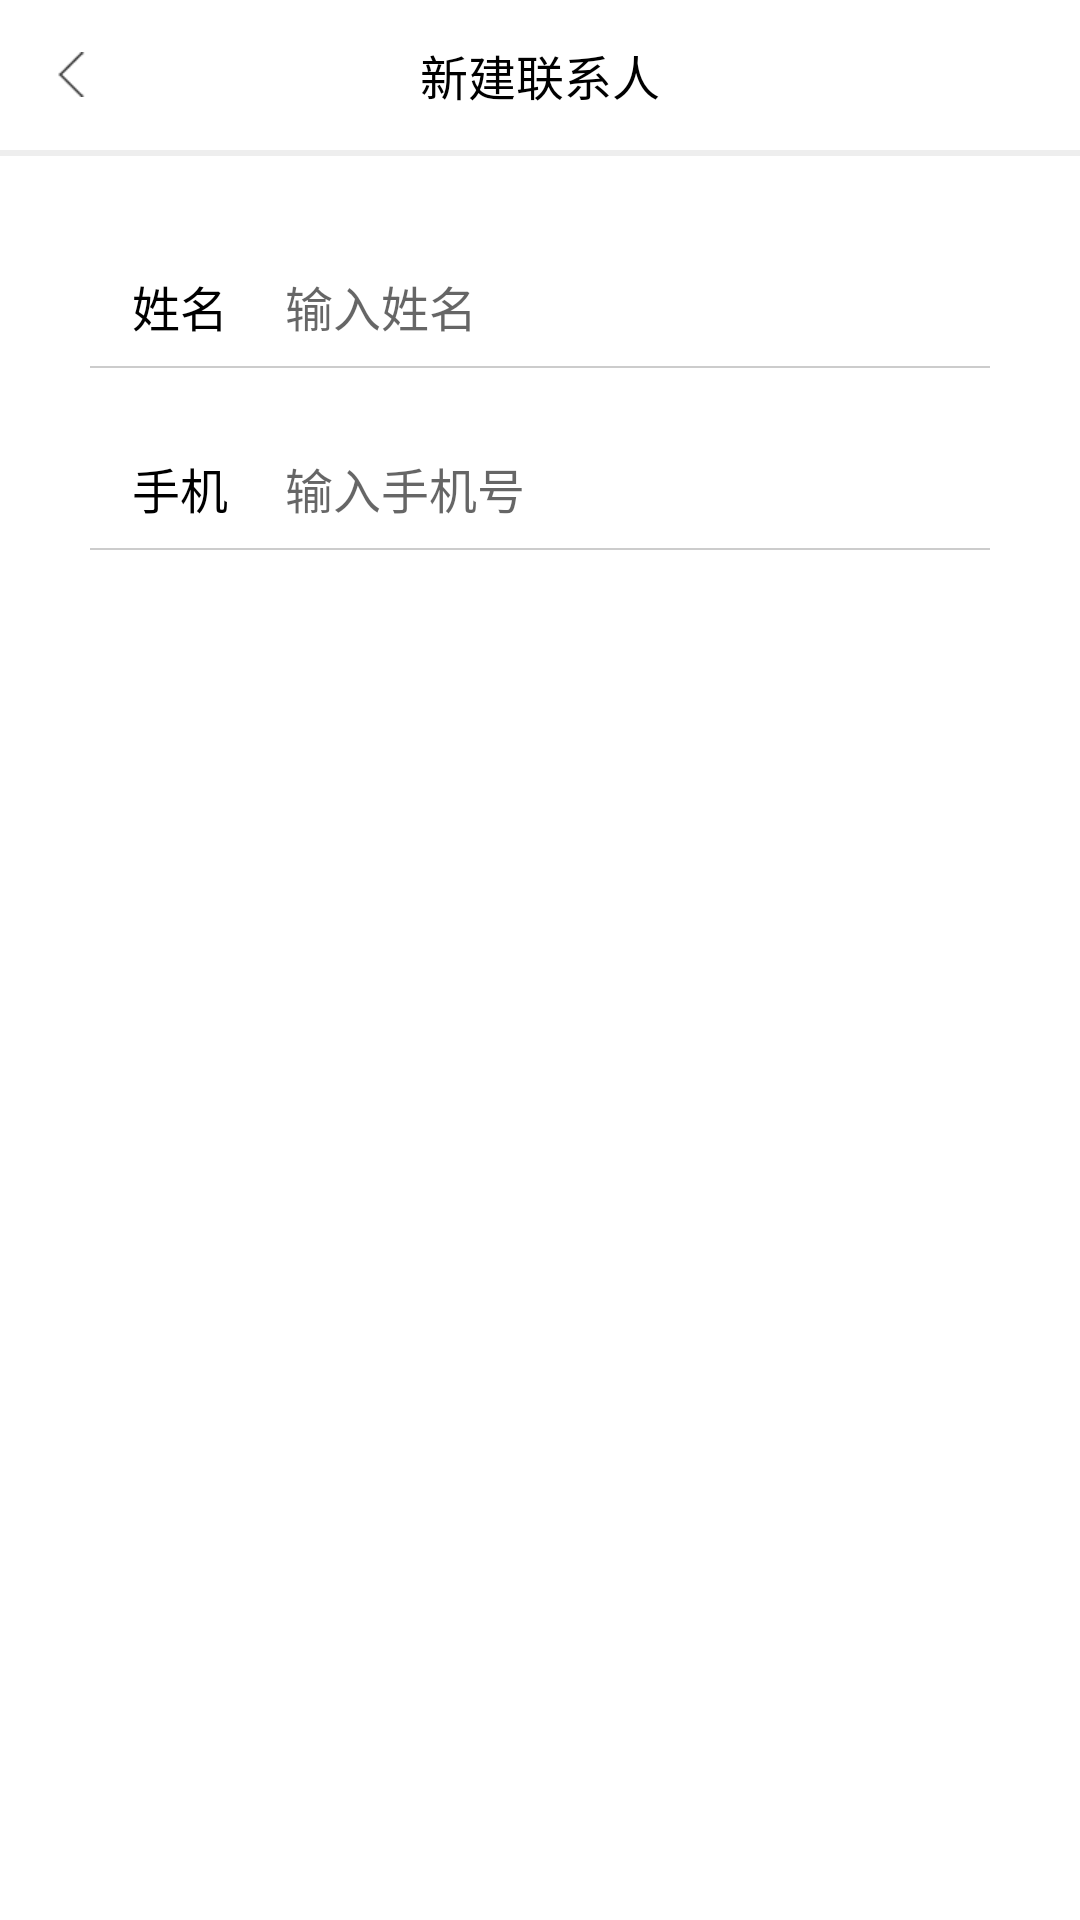

Icon bounding boxes for this 1080px×1920px phone screenshot, format [left=x1, top=y1, right=x2, bottom=y2]:
back: [left=58, top=52, right=84, bottom=97]
